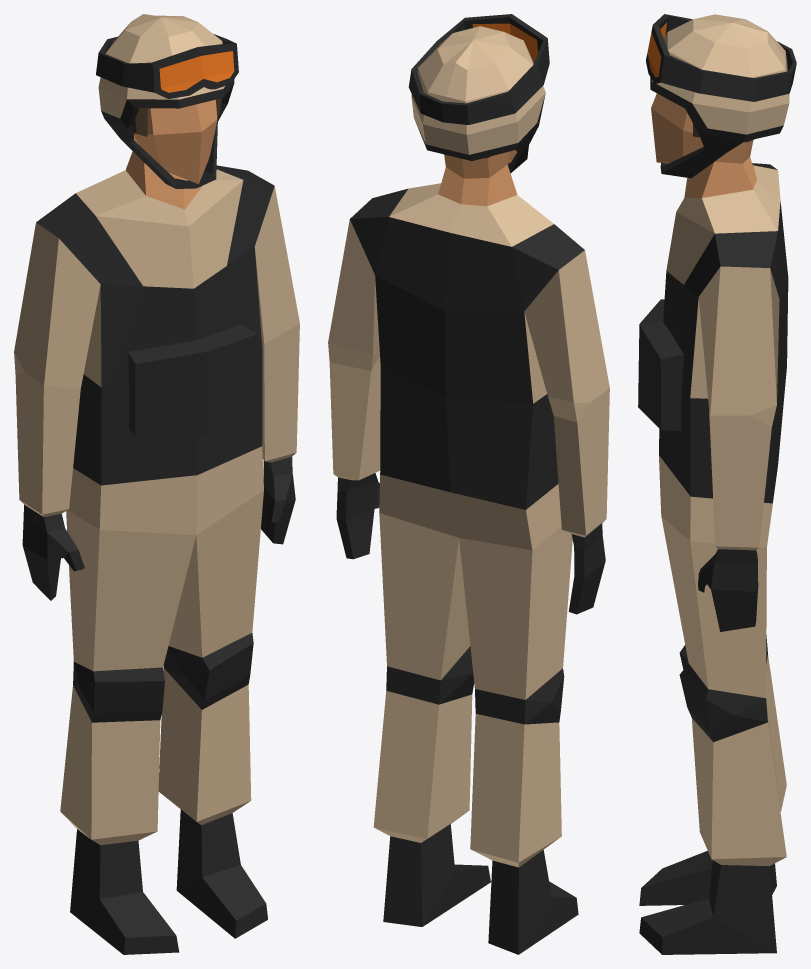
The model's file is people_man-soldier.fbx.
The picture shows the model from 3 angles, left to right: view 1: azimuth 30°, elevation 25°; view 2: azimuth 150°, elevation 25°; view 3: azimuth 270°, elevation 25°; orthographic projection.
Visible parts, largest first — view 1: people_man_soldier; view 2: people_man_soldier; view 3: people_man_soldier.
Boxes of the visible parts, bbox=[...] form: people_man_soldier: bbox=[14, 14, 299, 954]; people_man_soldier: bbox=[328, 14, 609, 954]; people_man_soldier: bbox=[638, 14, 796, 954].
Size of the model in its own units: 59.96 by 200 by 32.07.
